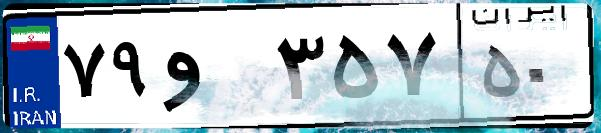0: (525, 38, 570, 115)
3: (270, 28, 330, 110)
5: (330, 28, 385, 110), (475, 38, 525, 113)
7: (385, 28, 445, 110), (57, 26, 110, 100)
9: (110, 28, 158, 98)
و: (158, 20, 270, 120)
